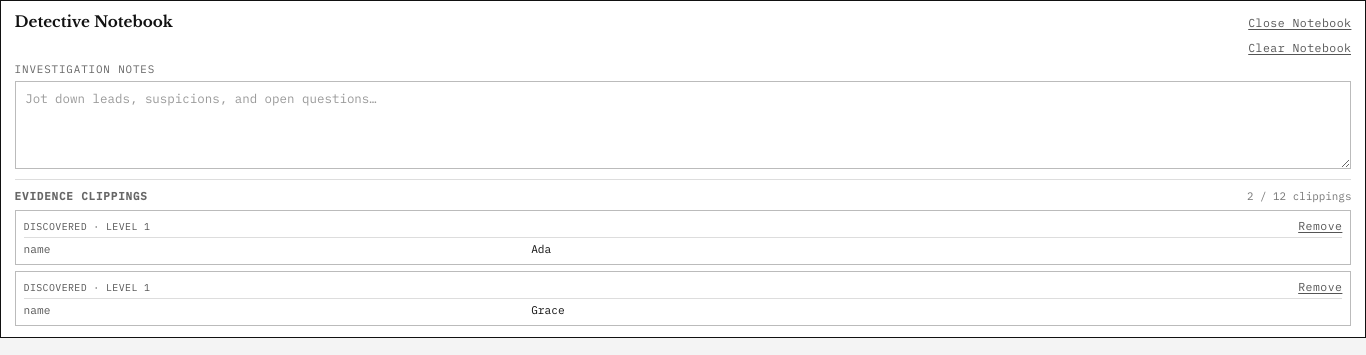
Test: DetectiveNotebook › removes a single evidence clipping
Expected: the list item "Ada" is shown, [531,242,551,256]
Click the button with aria-label "Remove evidence clipping" at (1320, 225), box [1298,218,1342,232]
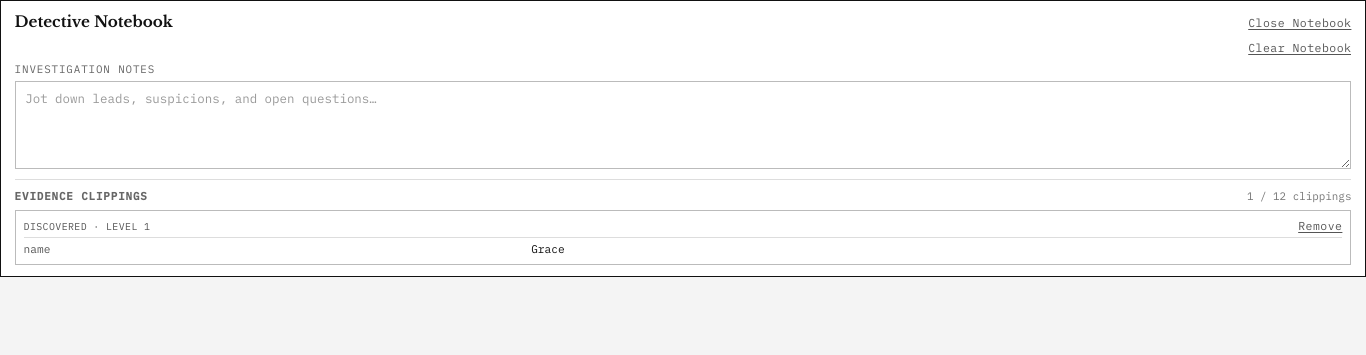
Expected: the text "Grace" is shown, [531,242,565,256]
Now the text "Ada" is gone
